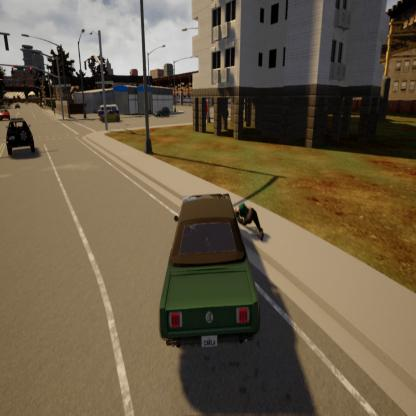Cars: (160, 195, 260, 352), (6, 117, 35, 157), (98, 104, 119, 118), (101, 110, 120, 124), (154, 105, 170, 117), (0, 108, 9, 122)
Pedestrian: (235, 200, 264, 241)
